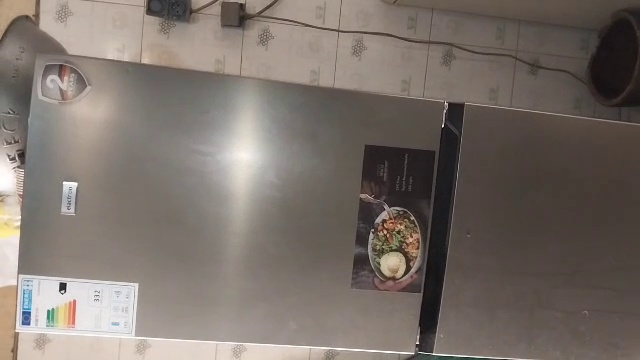refrigerator: (21, 45, 640, 360)
